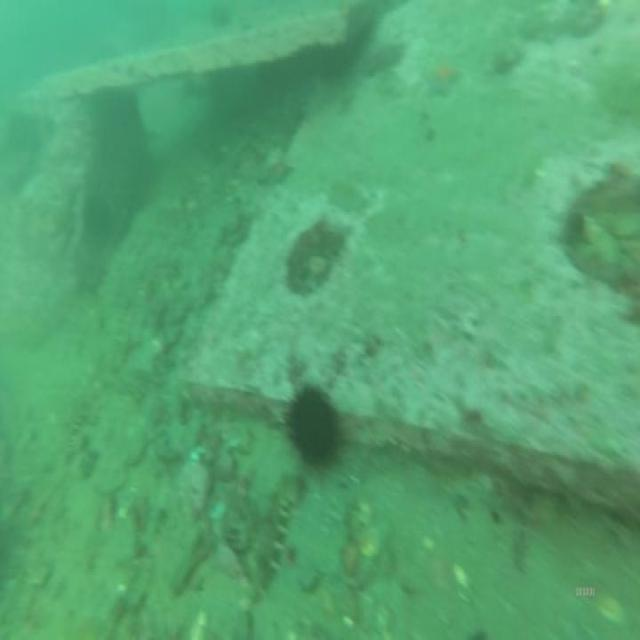echinus: (286, 379, 341, 471)
holothurian: (258, 484, 289, 594)
starfish: (426, 56, 461, 104)
